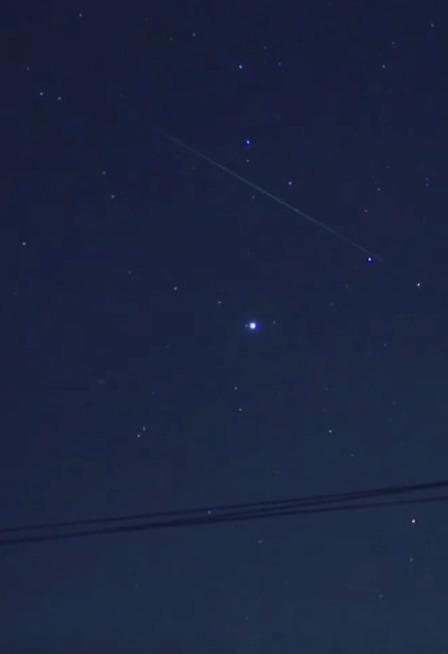meteorite: (192, 156, 388, 276)
